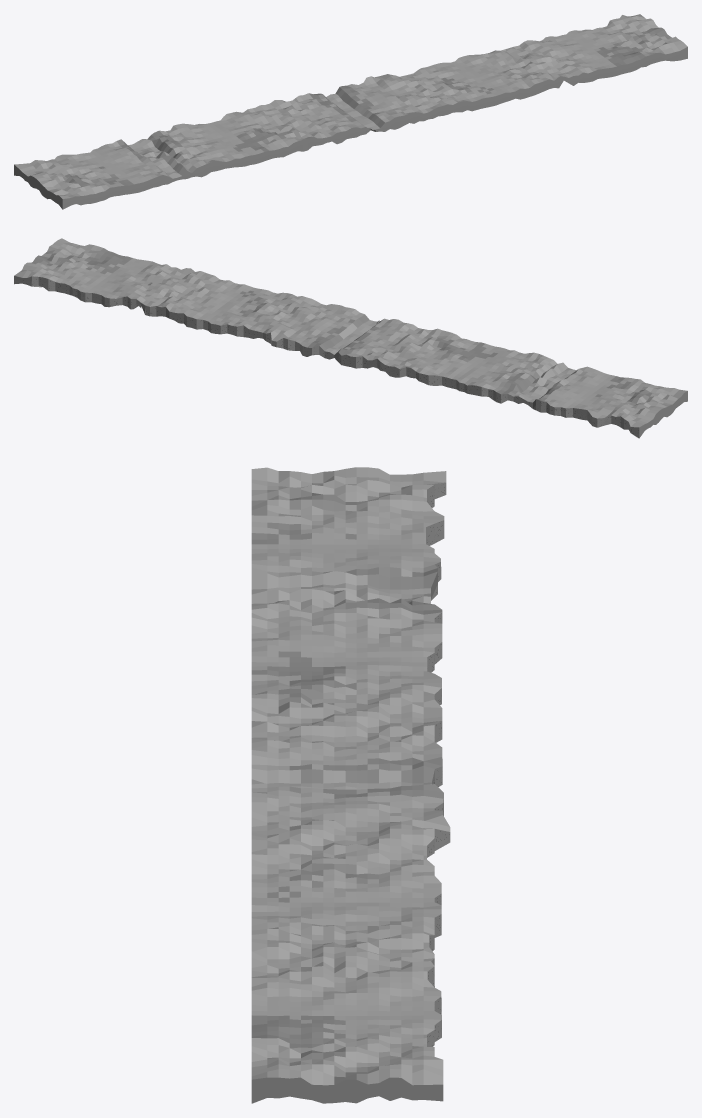
The model's file is yellow_far_wall.fbx.
3 renders of one model, top to bottom at view 1: azimuth 30°, elevation 25°; view 2: azimuth 150°, elevation 25°; view 3: azimuth 270°, elevation 25°, orthographic. The views are drawn at different scales.
Parts seen in each view (by area): view 1: Grid; view 2: Grid; view 3: Grid.
Part boxes in pixels (<box>): Grid: <box>14,14,687,209</box>; Grid: <box>14,238,687,438</box>; Grid: <box>251,467,450,1103</box>.
Size of the model in its own units: 16.18 by 0.3331 by 2.23.
3 materials, 3 textured.
